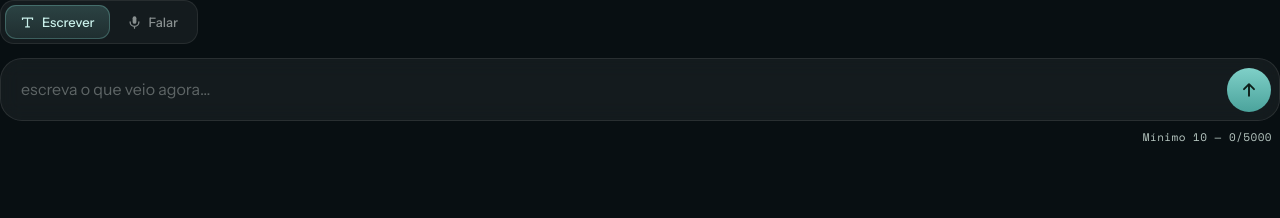
Test: ChatComposer › rejeita mensagens com menos de 10 caracteres com uma validação clara, sem enviar
This screenshot has width=1280, height=218.
In the text box named "Sua mensagem": x=618, y=89 top-left (21, 67), bottom-right (1215, 112), type "oi"
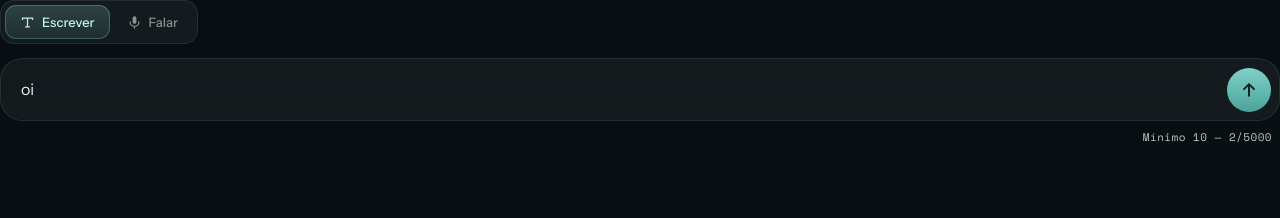
Click the button named "Enviar": x=1249, y=90 top-left (1227, 68), bottom-right (1271, 112)
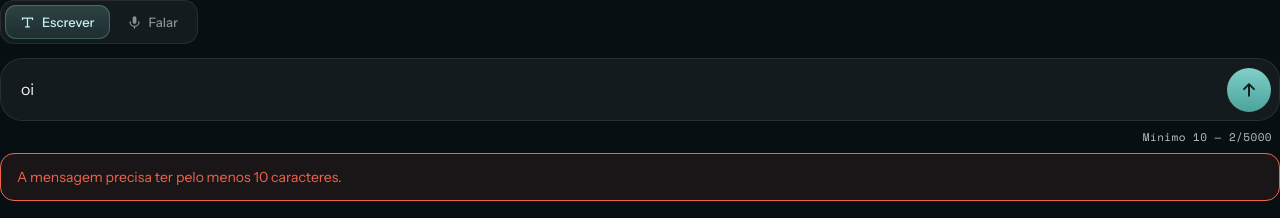
Expected: the message shows "pelo menos 10", top-left (17, 168), bottom-right (342, 186)
